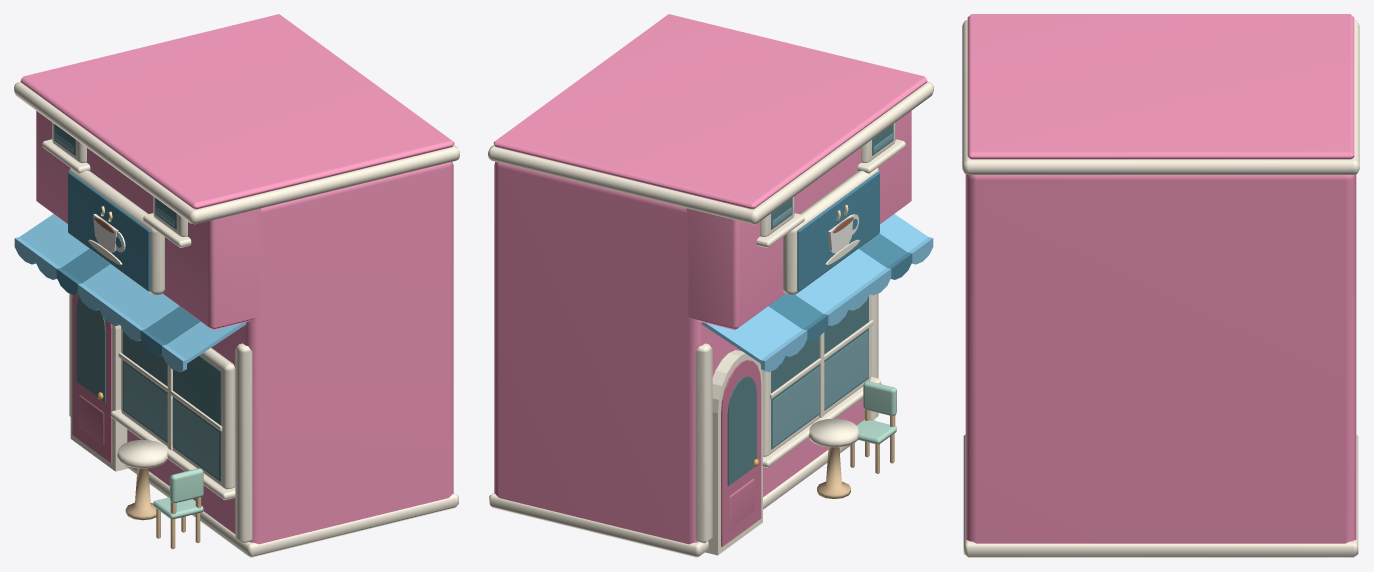
File: town_cafe.glb
The picture shows the model from 3 angles, left to right: view 1: azimuth 30°, elevation 25°; view 2: azimuth 150°, elevation 25°; view 3: azimuth 270°, elevation 25°; orthographic projection. The views are drawn at different scales.
Visible parts, largest first — view 1: Shell, Roof, Facade, Awning, Sign, PatioChair, PatioTable; view 2: Shell, Roof, Facade, Awning, Sign, PatioChair, PatioTable; view 3: Shell, Roof.
Part boxes in pixels (<box>): Shell: <box>36,111,458,557</box>; Roof: <box>14,14,459,224</box>; Facade: <box>42,122,252,543</box>; Awning: <box>14,214,246,372</box>; Sign: <box>68,167,164,294</box>; PatioChair: <box>153,468,203,549</box>; PatioTable: <box>117,440,167,520</box>; Shell: <box>489,111,911,557</box>; Roof: <box>488,14,933,224</box>; Facade: <box>695,122,905,555</box>; Awning: <box>701,214,933,372</box>; Sign: <box>783,167,879,294</box>; PatioChair: <box>850,381,896,473</box>; PatioTable: <box>809,418,859,498</box>; Shell: <box>963,174,1358,557</box>; Roof: <box>962,14,1359,174</box>.
Bounding box in the file's own units: 3.5 × 4.5 × 4.
13 materials, 13 textured.
